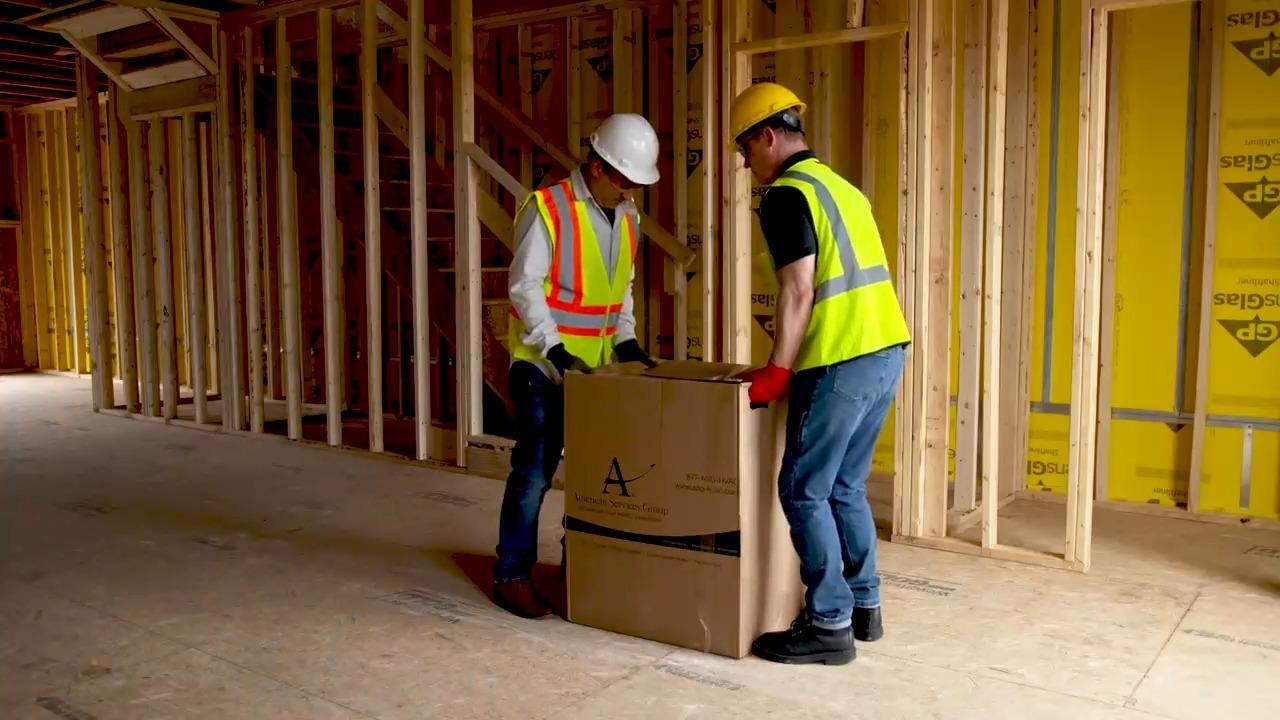Gloves: (744, 350, 793, 406), (540, 338, 589, 385), (608, 336, 654, 374)
Helmet: (589, 112, 660, 186), (728, 81, 807, 147)
Person: (730, 69, 902, 675), (490, 111, 662, 619)
Safety Boot: (750, 608, 856, 665), (490, 575, 553, 618), (850, 603, 883, 641)
Safety Vest: (779, 179, 891, 363), (532, 188, 633, 337)
